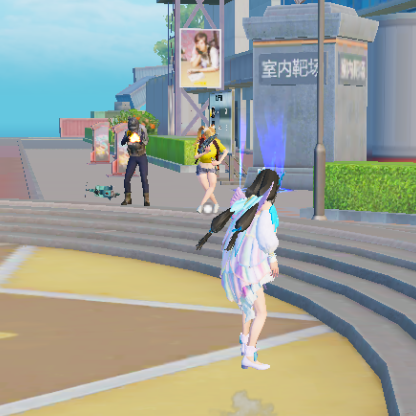ren: (224, 170, 281, 371), (120, 114, 152, 207), (195, 122, 223, 213), (187, 34, 220, 75)
tou: (251, 169, 279, 202), (201, 123, 219, 139), (195, 34, 210, 53), (127, 116, 140, 132)
